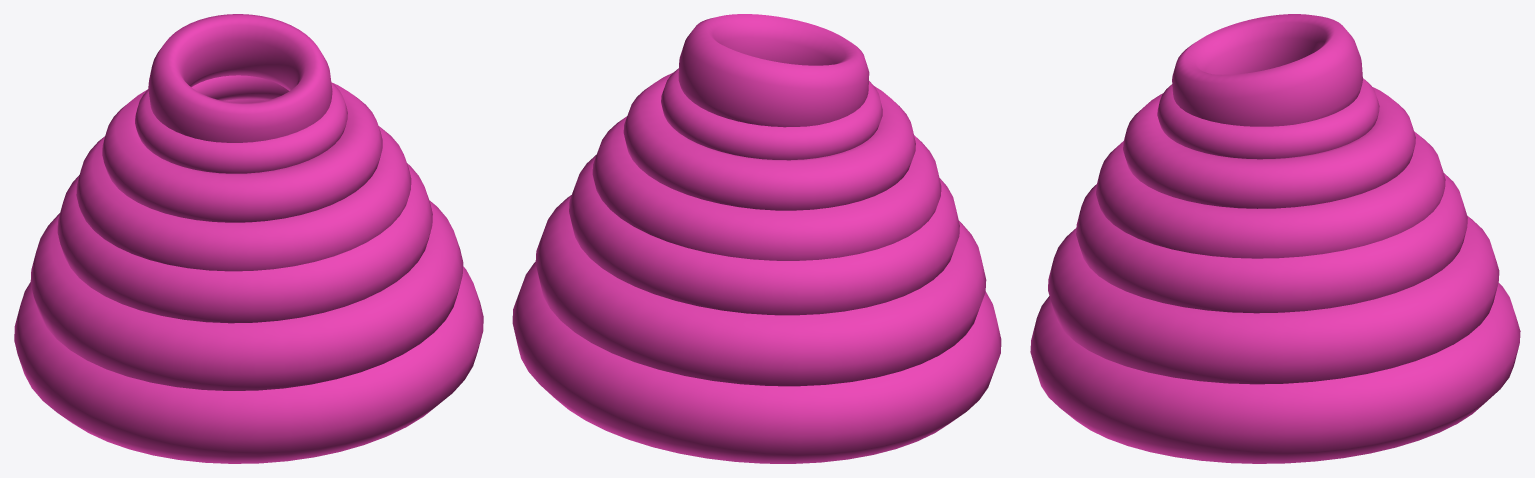
The model's file is Coral2.fbx.
3 views of the same model, side by side, from view 1: azimuth 30°, elevation 25°; view 2: azimuth 150°, elevation 25°; view 3: azimuth 270°, elevation 25° (orthographic). The views are drawn at different scales.
Parts seen in each view (by area): view 1: Coral; view 2: Coral; view 3: Coral.
Boxes of the visible parts, x1=… form: Coral: x1=14, y1=14, x2=483, y2=463; Coral: x1=512, y1=14, x2=1001, y2=463; Coral: x1=1030, y1=14, x2=1520, y2=463.
Size of the model in its own units: 1219 by 988 by 1220.
